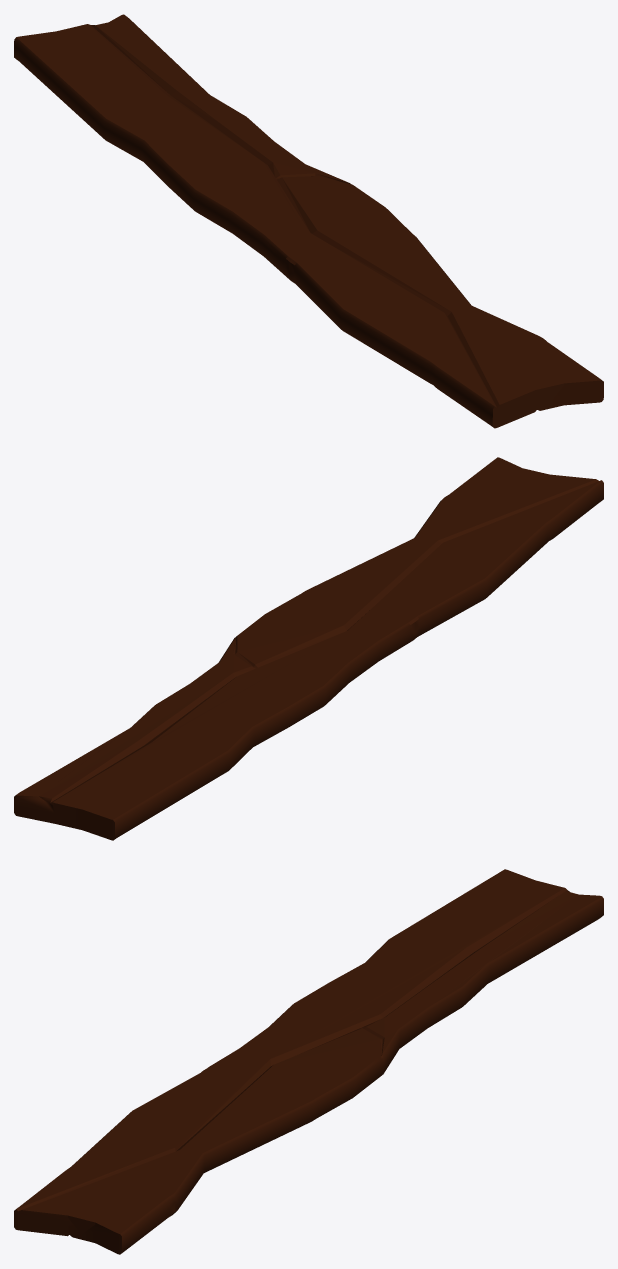
The model's file is Plank2.fbx.
3 views of the same model, one above another, from view 1: azimuth 30°, elevation 25°; view 2: azimuth 150°, elevation 25°; view 3: azimuth 330°, elevation 25° (orthographic). The views are drawn at different scales.
Visible parts, largest first — view 1: Plank; view 2: Plank; view 3: Plank.
Boxes of the visible parts, left/top/right/bottom form: Plank: left=14, top=14, right=603, bottom=428; Plank: left=14, top=457, right=603, bottom=840; Plank: left=14, top=869, right=603, bottom=1254.
Bounding box in the file's own units: 20.49 × 3.21 × 124.
